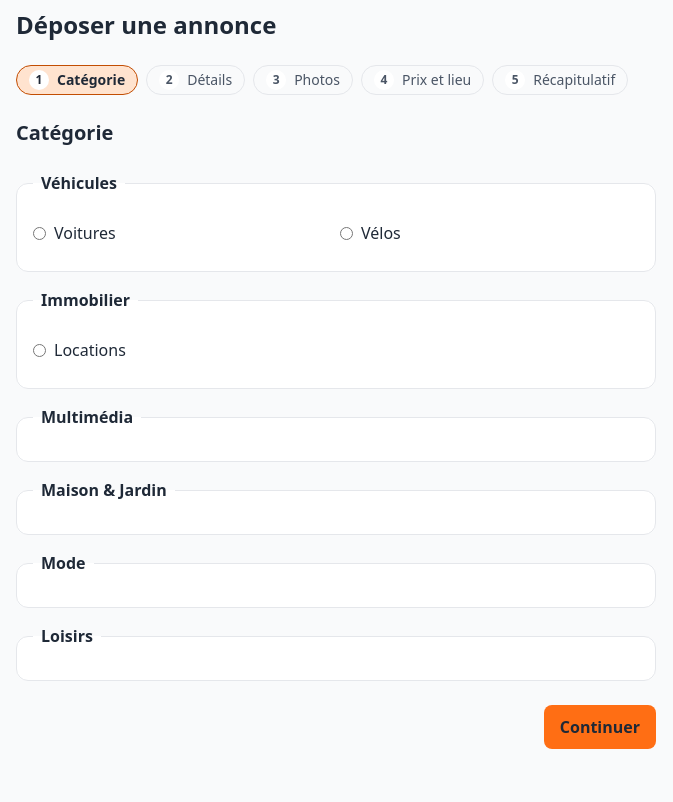
Test: déposer une annonce : validation étape par étape › refuse de continuer sans catégorie
This screenshot has width=673, height=802.
expect the radio button labelled "Voitures" is shown: met, box [33,226,46,240]
Click the button "Continuer" at (600, 727), box [544,705,656,749]
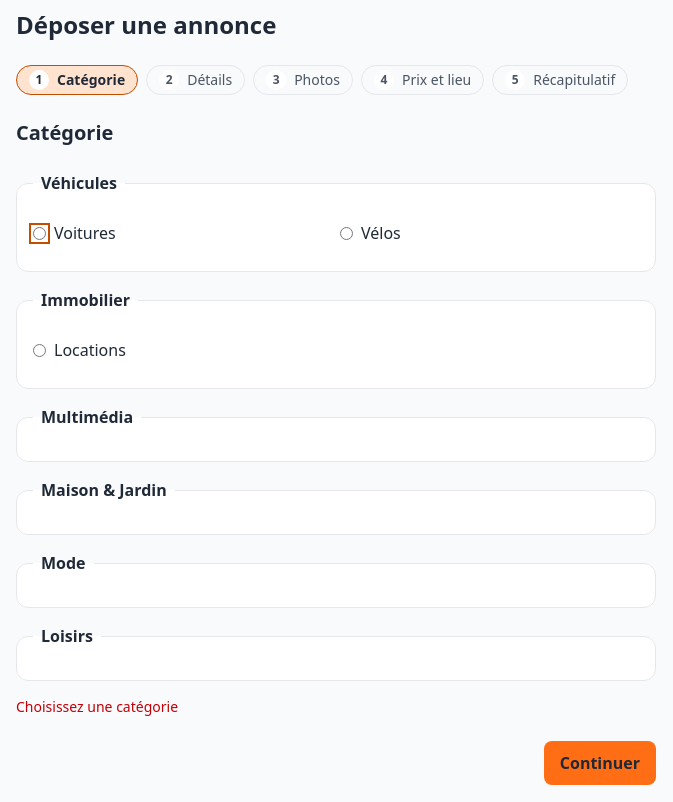
expect the heading "Catégorie" is shown: met, box [16,119,113,146]
expect the text "Choisissez une catégorie" is shown: met, box [16,697,178,716]
